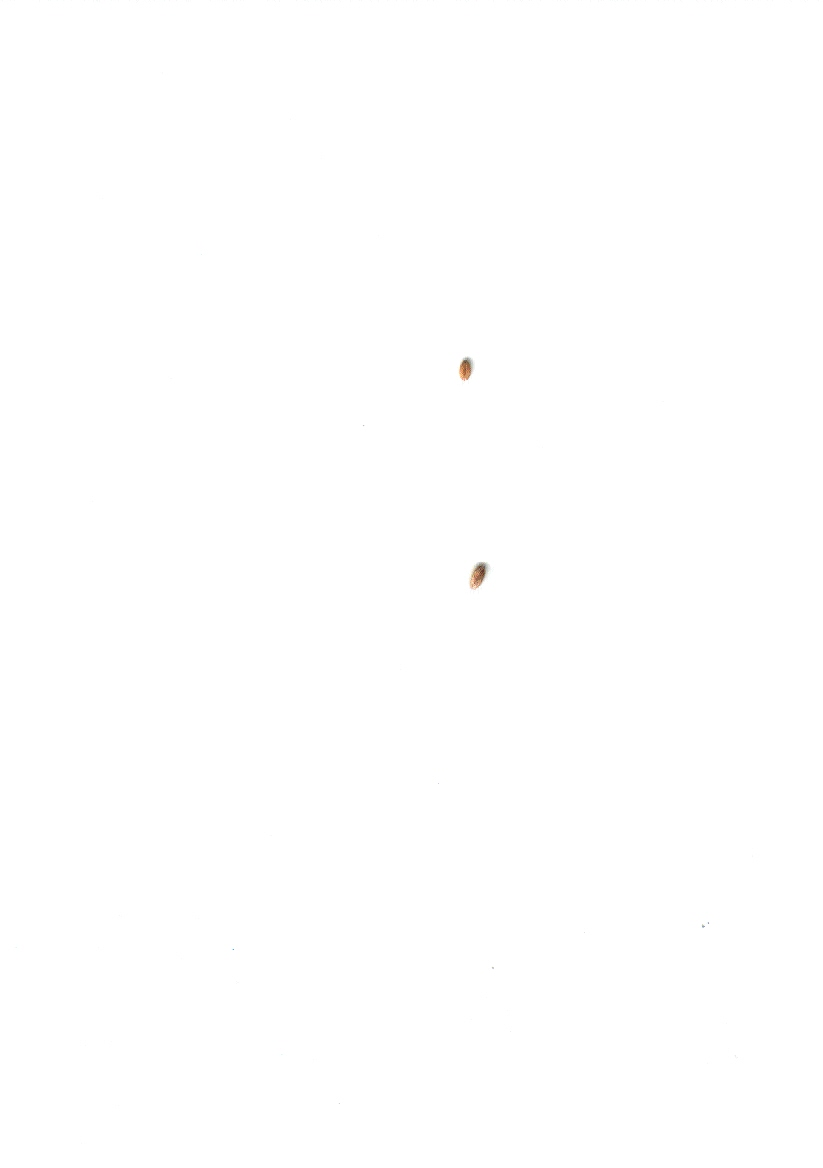grains: (451, 550, 519, 608), (447, 349, 484, 394)
